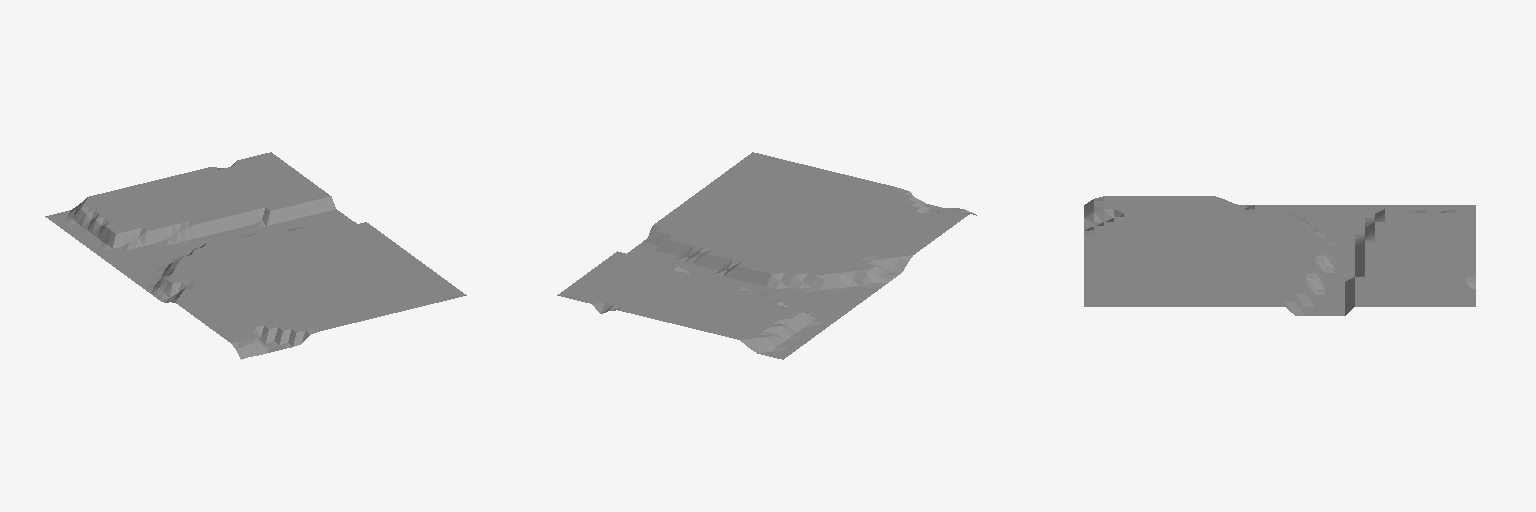
File: Forest.obj
3 views of the same model, side by side, from view 1: azimuth 30°, elevation 25°; view 2: azimuth 150°, elevation 25°; view 3: azimuth 270°, elevation 25° (orthographic).
Parts seen in each view (by area): view 1: default; view 2: default; view 3: default.
Part boxes in pixels (x1,y1,x2,y2): default: (45,152,466,359); default: (557,152,976,359); default: (1084,196,1475,315).
Size of the model in its own units: 26.05 by 1.01 by 39.08.